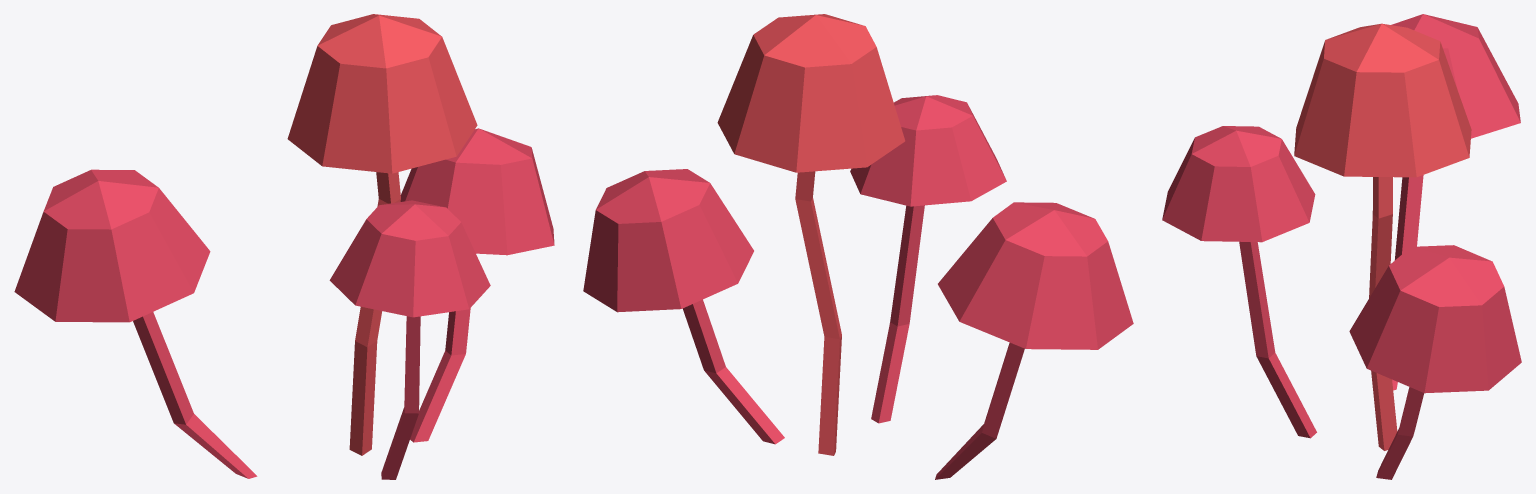
The model's file is Mushroom_c_04.fbx.
3 views of the same model, side by side, from view 1: azimuth 30°, elevation 25°; view 2: azimuth 150°, elevation 25°; view 3: azimuth 270°, elevation 25° (orthographic).
Visible parts, largest first — view 1: Mushroom_c_04; view 2: Mushroom_c_04; view 3: Mushroom_c_04.
Boxes of the visible parts, box(x1,y1,x2,y2) form: Mushroom_c_04: box(14, 14, 554, 479); Mushroom_c_04: box(583, 14, 1133, 479); Mushroom_c_04: box(1162, 14, 1521, 479).
Size of the model in its own units: 46.28 by 37.1 by 27.93.
